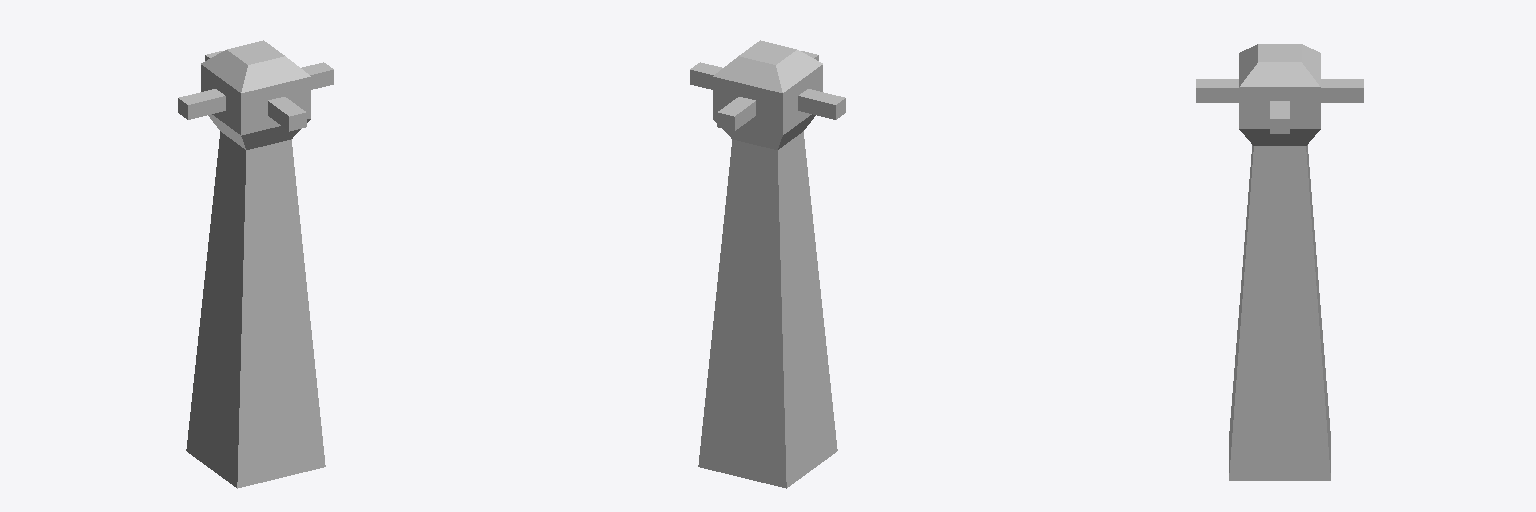
Rendered from Tower.obj.
3 renders of one model, left to right at view 1: azimuth 30°, elevation 25°; view 2: azimuth 150°, elevation 25°; view 3: azimuth 270°, elevation 25°, orthographic.
Visible parts, largest first — view 1: cube1_cut7, cube1_cut6, cube1_cut8, cube1_cut2, cube1_cut5, cube1_cut4; view 2: cube1_cut6, cube1, cube1_cut8, cube1_cut2, cube1_cut3, cube1_cut4; view 3: cube1_cut6, cube1_cut7, cube1, cube1_cut5, cube1_cut3, cube1_cut8, cube1_cut4.
Boxes of the visible parts, <box> form: cube1_cut7: <box>237,139,325,488</box>; cube1_cut6: <box>186,131,245,487</box>; cube1_cut8: <box>201,50,310,149</box>; cube1_cut2: <box>178,89,225,119</box>; cube1_cut5: <box>268,97,306,131</box>; cube1_cut4: <box>301,62,333,89</box>; cube1_cut6: <box>698,131,837,488</box>; cube1: <box>713,41,782,149</box>; cube1_cut8: <box>760,40,822,149</box>; cube1_cut2: <box>798,89,845,119</box>; cube1_cut3: <box>717,97,755,131</box>; cube1_cut4: <box>690,62,722,89</box>; cube1_cut6: <box>1229,145,1330,480</box>; cube1_cut7: <box>1229,145,1305,477</box>; cube1: <box>1239,44,1320,145</box>; cube1_cut5: <box>1196,79,1238,102</box>; cube1_cut3: <box>1321,79,1363,102</box>; cube1_cut8: <box>1239,44,1299,86</box>; cube1_cut4: <box>1270,101,1289,133</box>.
Bounding box in the file's own units: 3.3 × 8.78 × 3.3.